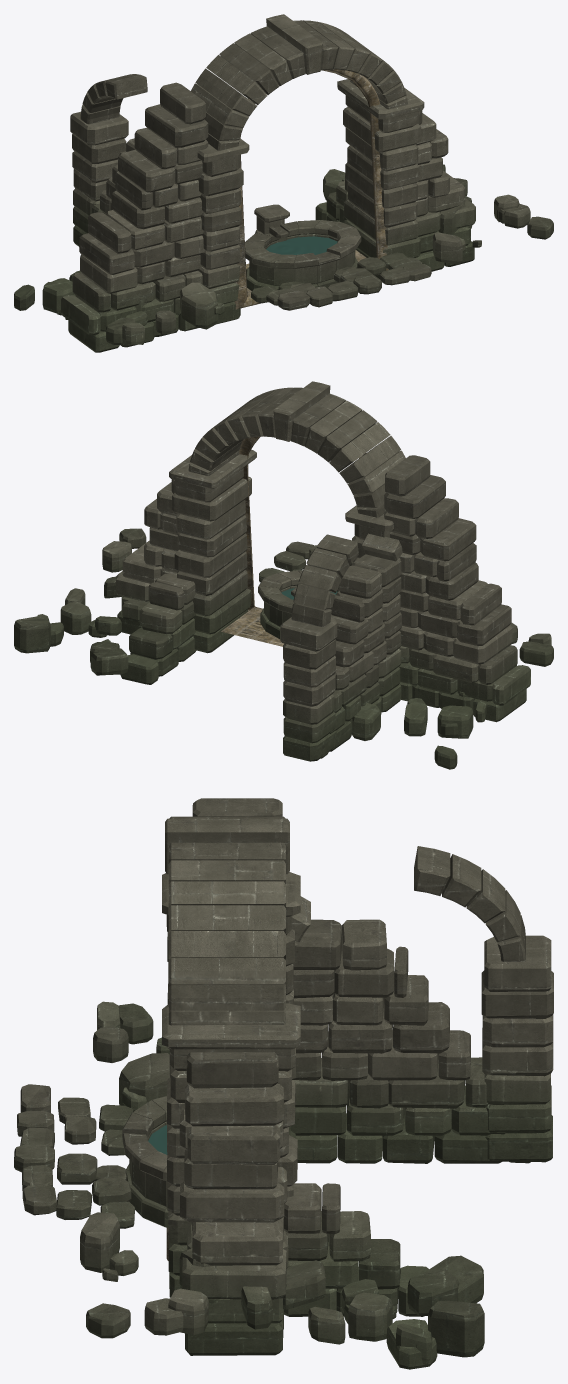
Rendered from Springhouse.gltf.
3 views of the same model, one above another, from view 1: azimuth 30°, elevation 25°; view 2: azimuth 150°, elevation 25°; view 3: azimuth 270°, elevation 25° (orthographic). The views are drawn at different scales.
Parts seen in each view (by area): view 1: BrokenReturns, Arch, FallenMasonry, Basin; view 2: BrokenReturns, Arch, FallenMasonry, Basin; view 3: BrokenReturns, FallenMasonry, Arch, Basin.
Part boxes in pixels (bbox=[...]): BrokenReturns: bbox=[61, 74, 475, 352]; Arch: bbox=[191, 14, 424, 323]; FallenMasonry: bbox=[14, 164, 553, 344]; Basin: bbox=[245, 204, 361, 290]; BrokenReturns: bbox=[116, 455, 530, 761]; Arch: bbox=[169, 381, 405, 653]; FallenMasonry: bbox=[14, 528, 553, 769]; Basin: bbox=[258, 570, 339, 638]; BrokenReturns: bbox=[179, 798, 553, 1355]; FallenMasonry: bbox=[14, 1001, 484, 1369]; Arch: bbox=[162, 816, 300, 1297]; Basin: bbox=[122, 1096, 168, 1227].
Size of the model in its own units: 13.86 by 8.22 by 9.58.
Materials: 3 (2 with a texture image).
